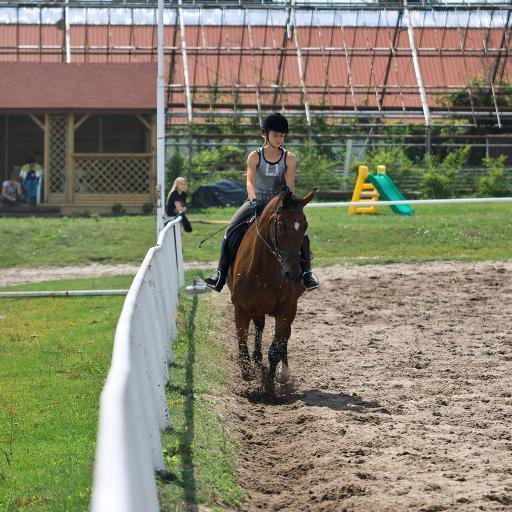horse: (222, 186, 318, 394)
